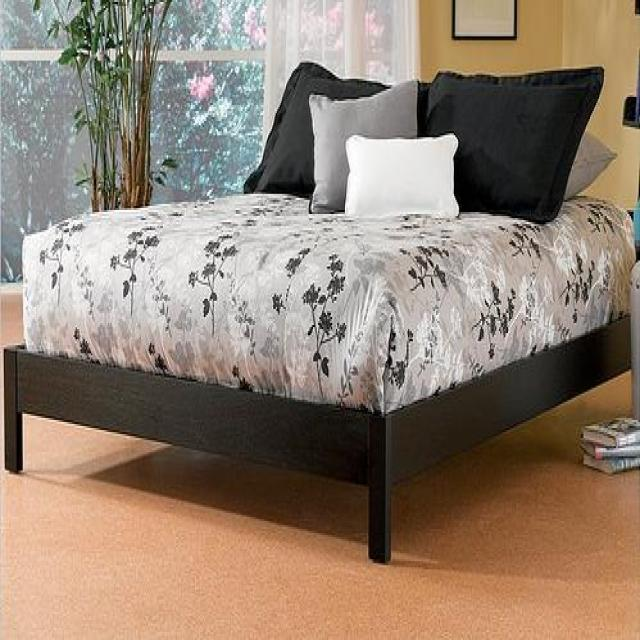bed: (8, 64, 639, 567)
